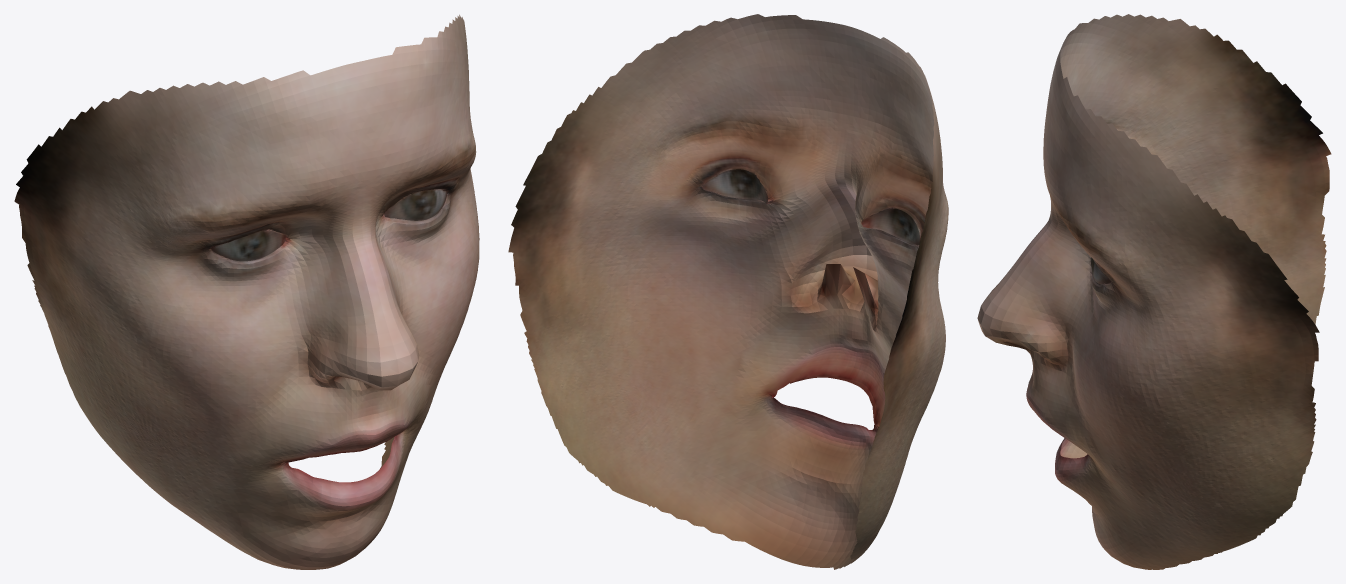
Rendered from fear2_mesh.obj.
The picture shows the model from 3 angles, left to right: view 1: azimuth 30°, elevation 25°; view 2: azimuth 150°, elevation 25°; view 3: azimuth 270°, elevation 25°; orthographic projection. The views are drawn at different scales.
Bounding box in the file's own units: 1.37 × 1.7 × 1.09.
